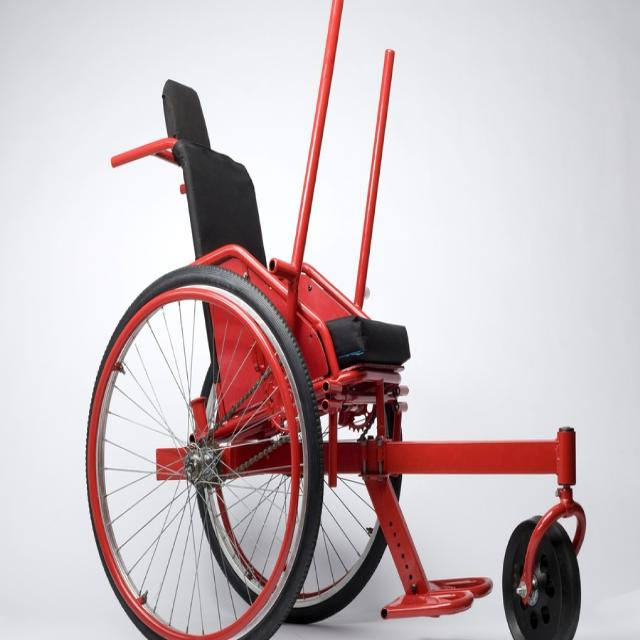wheelchairs: (83, 66, 462, 636)
